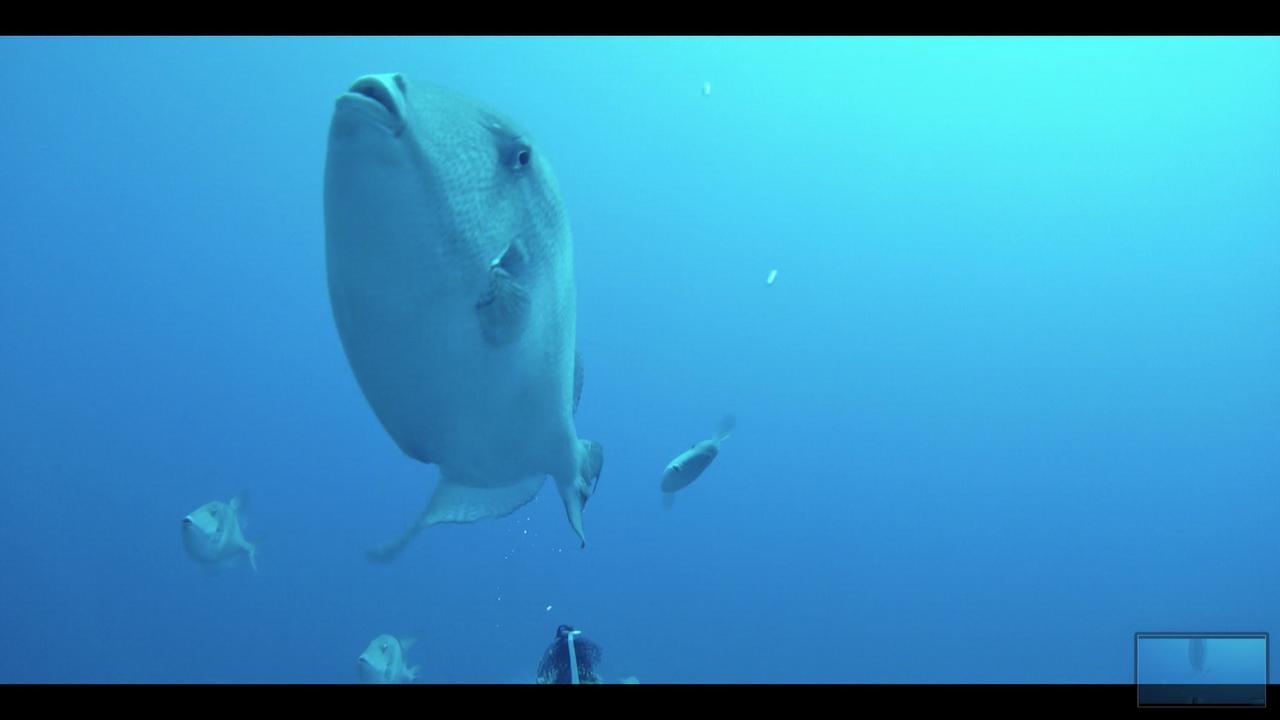balistes: (321, 68, 609, 570), (650, 415, 742, 512), (172, 488, 264, 576), (342, 624, 435, 680)
